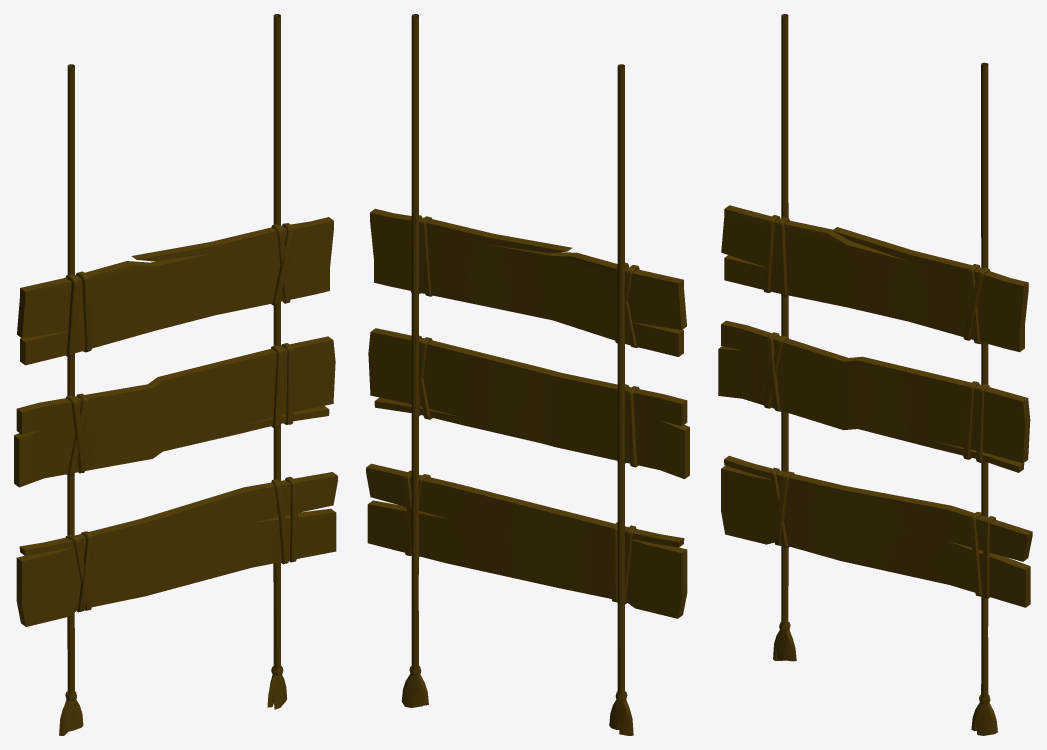
The model's file is WoodSign_Menu (1).fbx.
3 renders of one model, left to right at view 1: azimuth 30°, elevation 25°; view 2: azimuth 150°, elevation 25°; view 3: azimuth 330°, elevation 25°, orthographic. The views are drawn at different scales.
Parts seen in each view (by area): view 1: cartello; view 2: cartello; view 3: cartello.
Part boxes in pixels (x1,y1,x2,y2): cartello: [14, 14, 337, 735]; cartello: [366, 14, 689, 735]; cartello: [718, 14, 1032, 735].
Size of the model in its own units: 3.17 by 6.56 by 0.2465.
